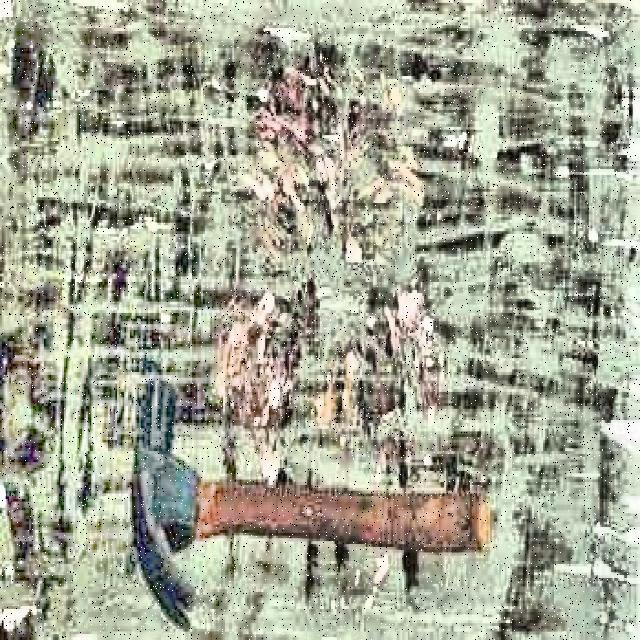hammer: (131, 375, 496, 621)
